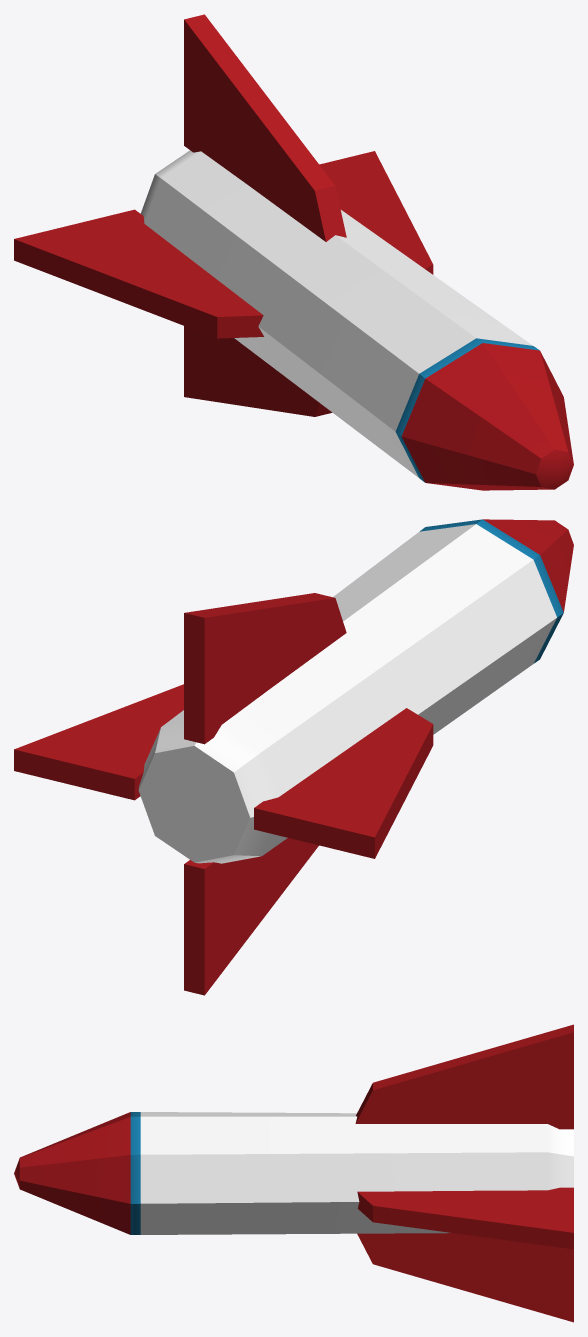
The model's file is Rocket.fbx.
3 views of the same model, one above another, from view 1: azimuth 30°, elevation 25°; view 2: azimuth 150°, elevation 25°; view 3: azimuth 270°, elevation 25° (orthographic). The views are drawn at different scales.
Visible parts, largest first — view 1: Rocket; view 2: Rocket; view 3: Rocket.
Part boxes in pixels (left/top/right/bottom): Rocket: left=14, top=14, right=573, bottom=490; Rocket: left=14, top=519, right=573, bottom=995; Rocket: left=14, top=1024, right=573, bottom=1322.
Size of the model in its own units: 1.91 by 1.91 by 3.34.
